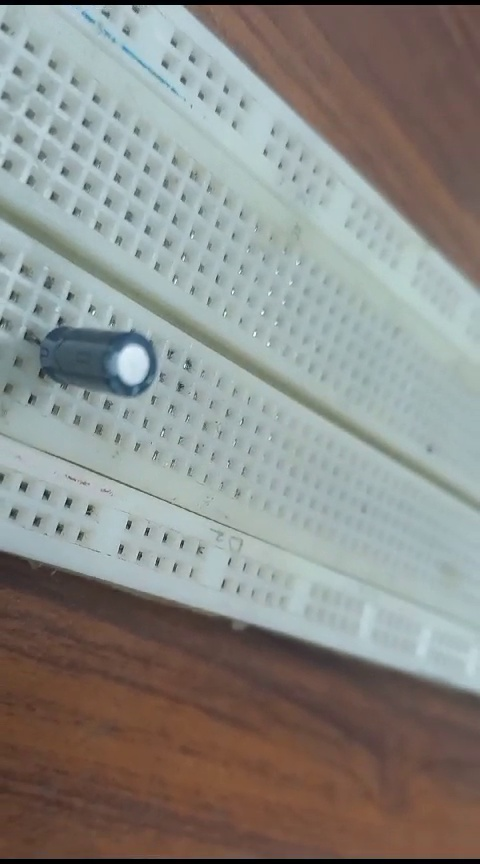capacitor: (20, 307, 166, 411)
